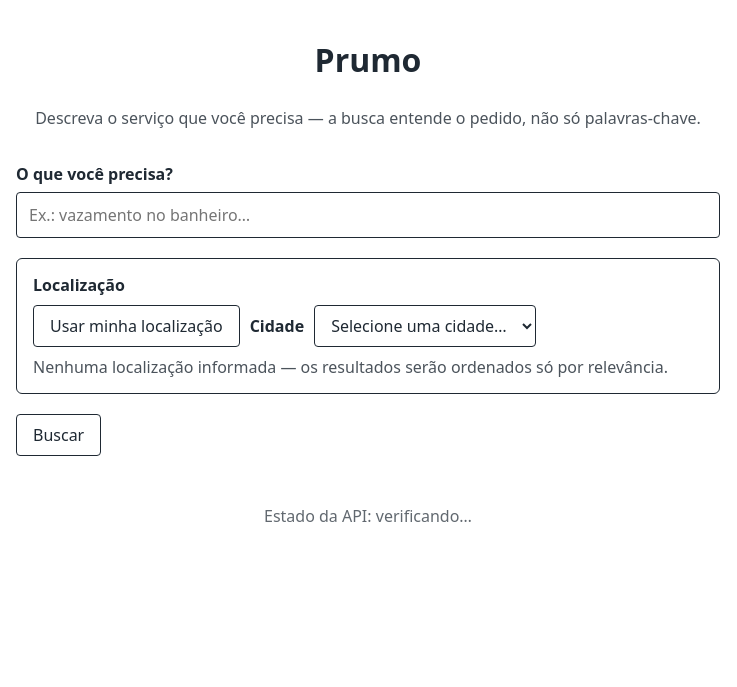
Test: App — tela de busca › 422 (embedding_unavailable): bloco explicativo com consultas de demonstração clicáveis
Type "meu portão não abre" into the field labelled "O que você precisa?". click: (368, 215)
box: top-left (16, 192), bottom-right (720, 238)
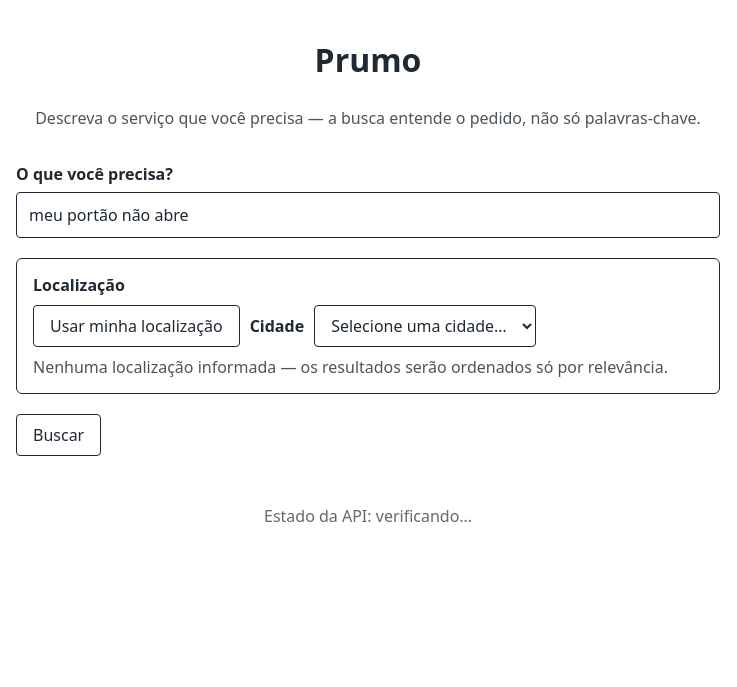
Click the button "Buscar". click: (59, 435)
box: top-left (16, 414), bottom-right (101, 456)
(page scrolled)
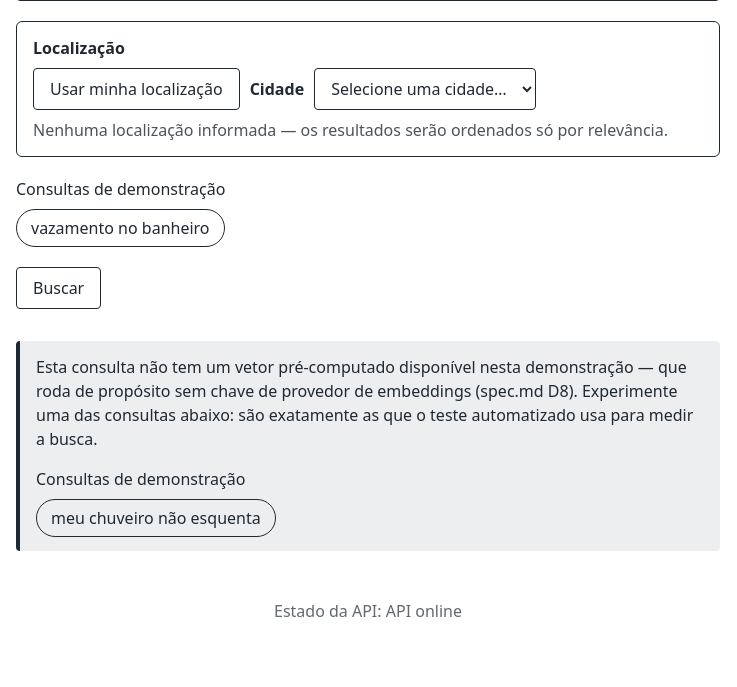
Check: the button "meu chuveiro não esquenta" is shown
Click the button "meu chuveiro não esquenta". click: (156, 518)
box: top-left (36, 499), bottom-right (276, 537)
(page scrolled)
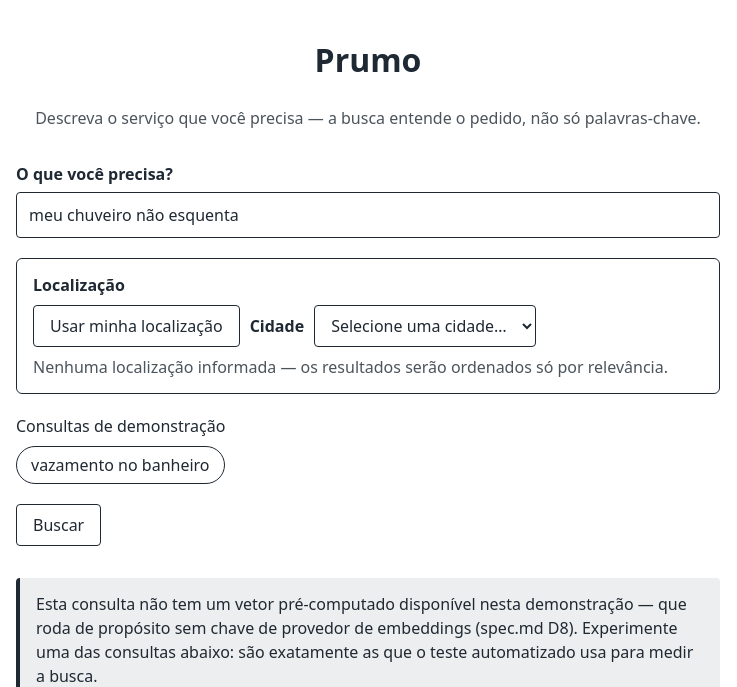
Check: the field labelled "O que você precisa?" holds "meu chuveiro não esquenta", box top-left (16, 192), bottom-right (720, 238)
